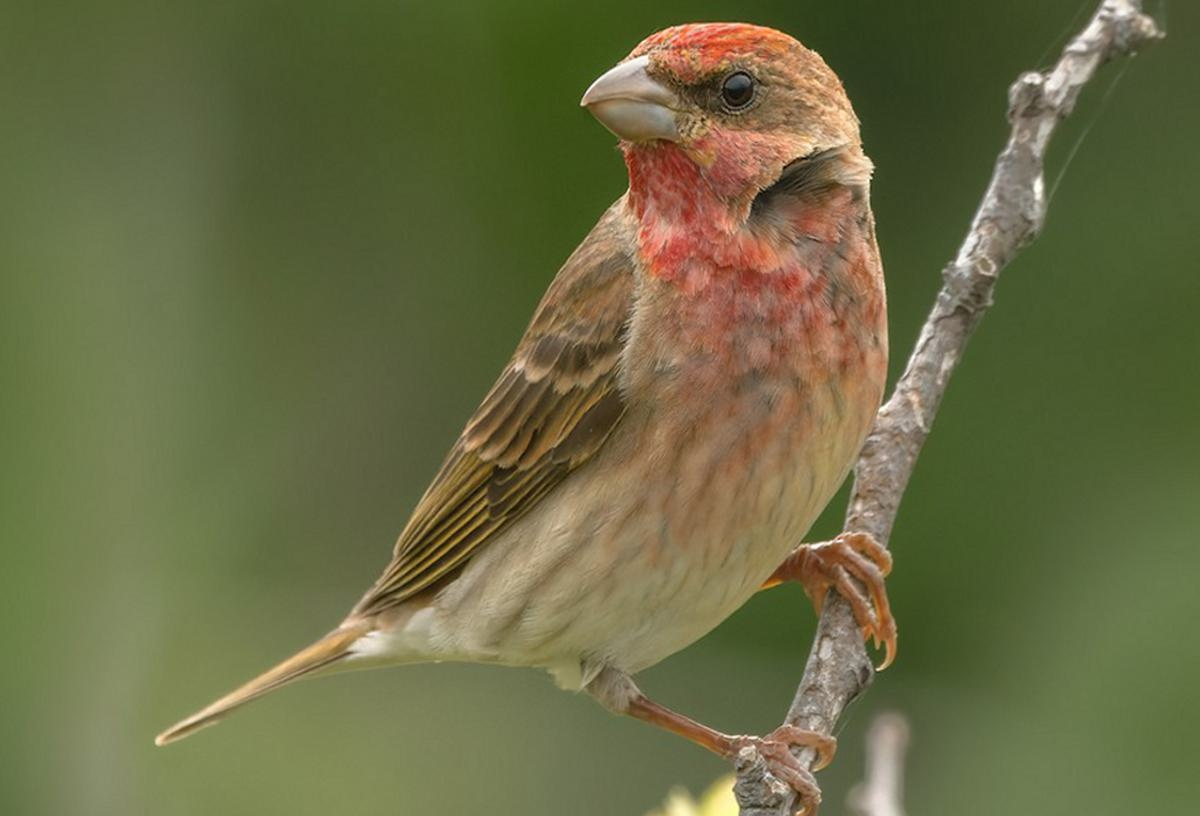rosefinch: (387, 30, 907, 706)
